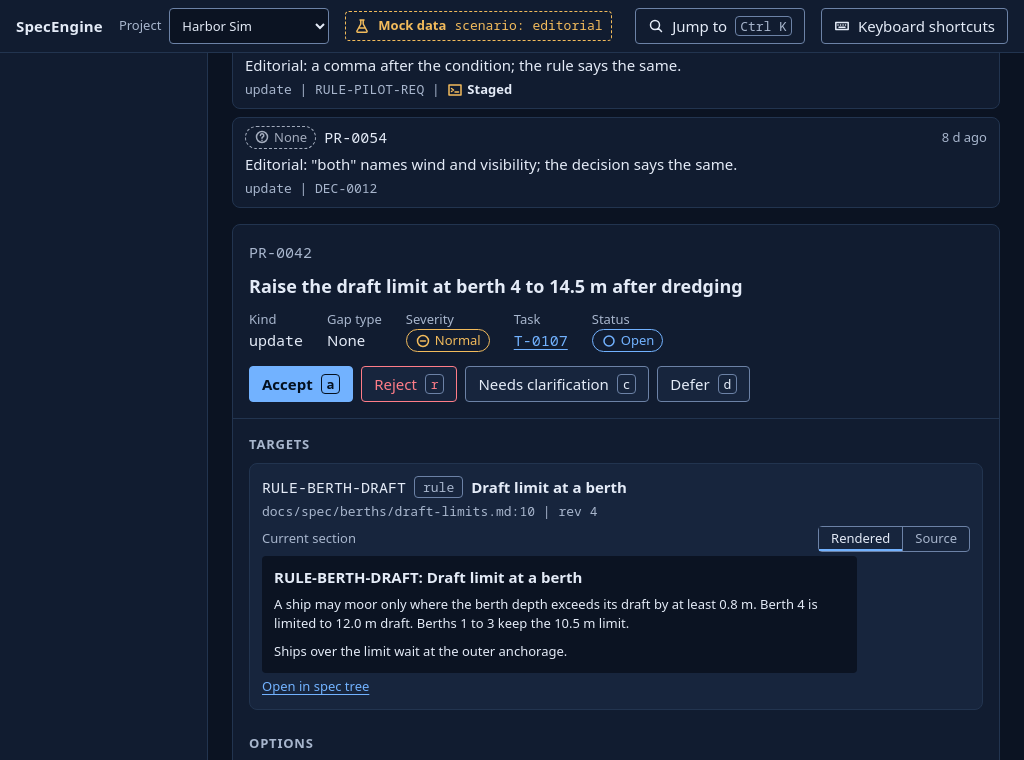
Test case: the editorial approve's contract (UI-2 of rev-discipline) › over the mock: Accept with Editorial stages editorial true; stored so; the card shows its Editorial row, the command bare
The image size is (1024, 760).
(page scrolled)
Expected: the text with class "card-id" reads "PR-0042", x1=249 y1=242 x2=312 y2=262
Click the button "Accept a".
click(301, 384)  # box x1=249 y1=366 x2=353 y2=402
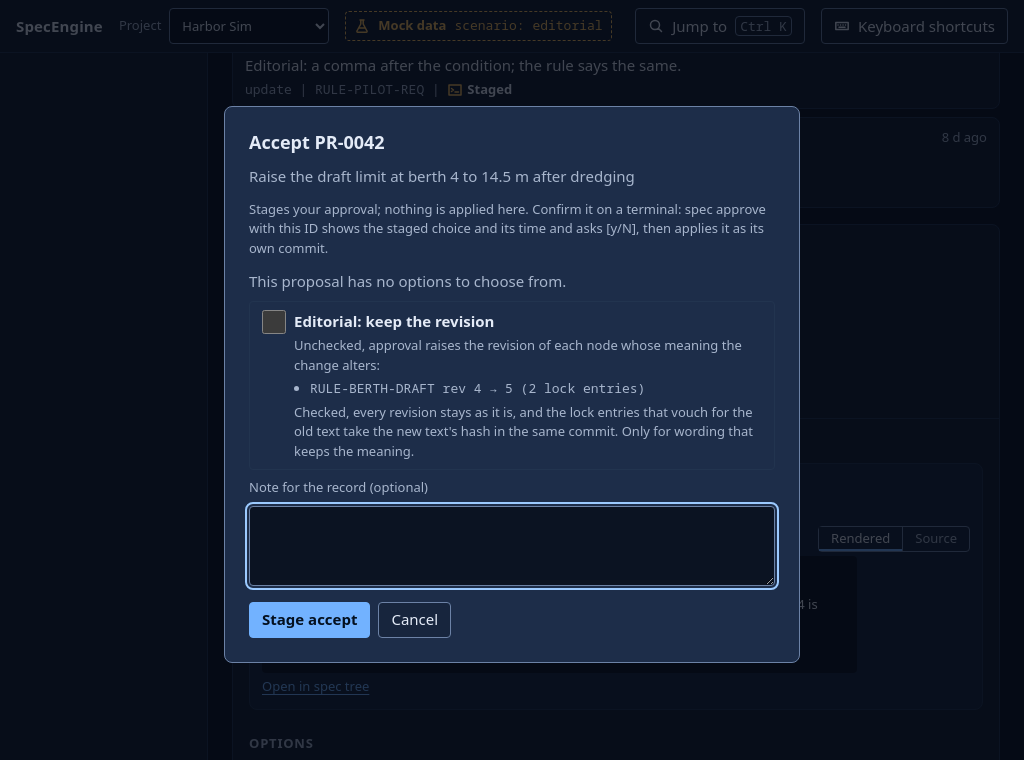
Click the checkbox labelled "Editorial: keep the revision".
click(274, 322)  # box x1=262 y1=310 x2=286 y2=334
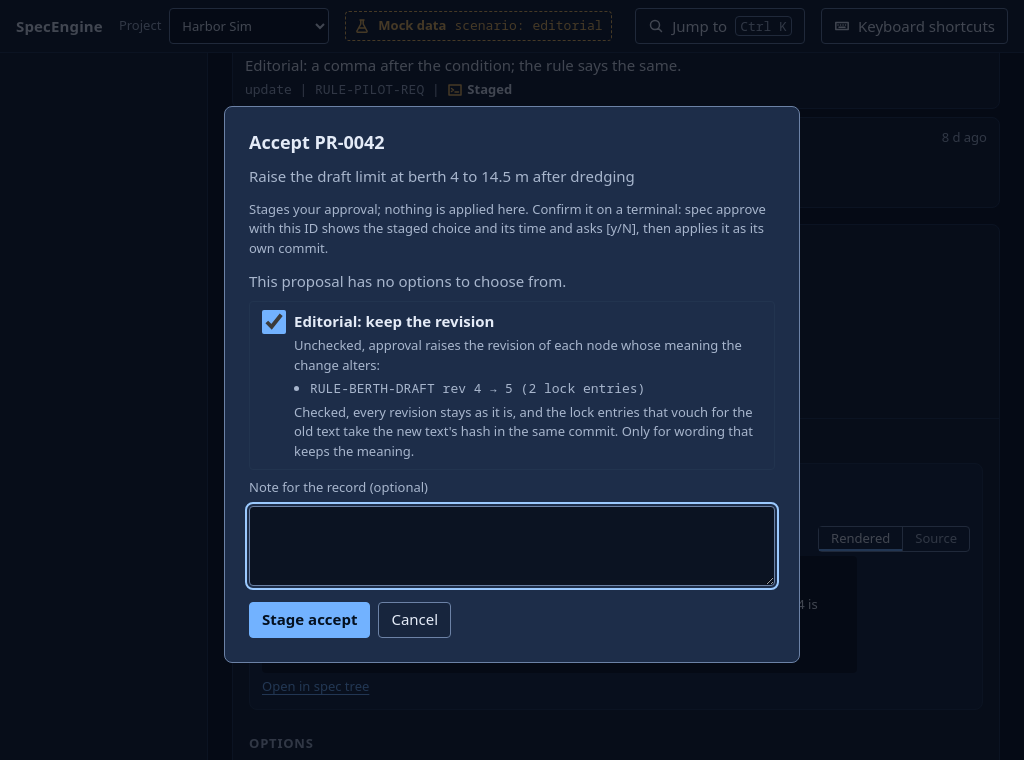
Type "typo" into the text box labelled "Note for the record (optional)".
click(512, 546); type("typo")  # box x1=249 y1=506 x2=775 y2=586
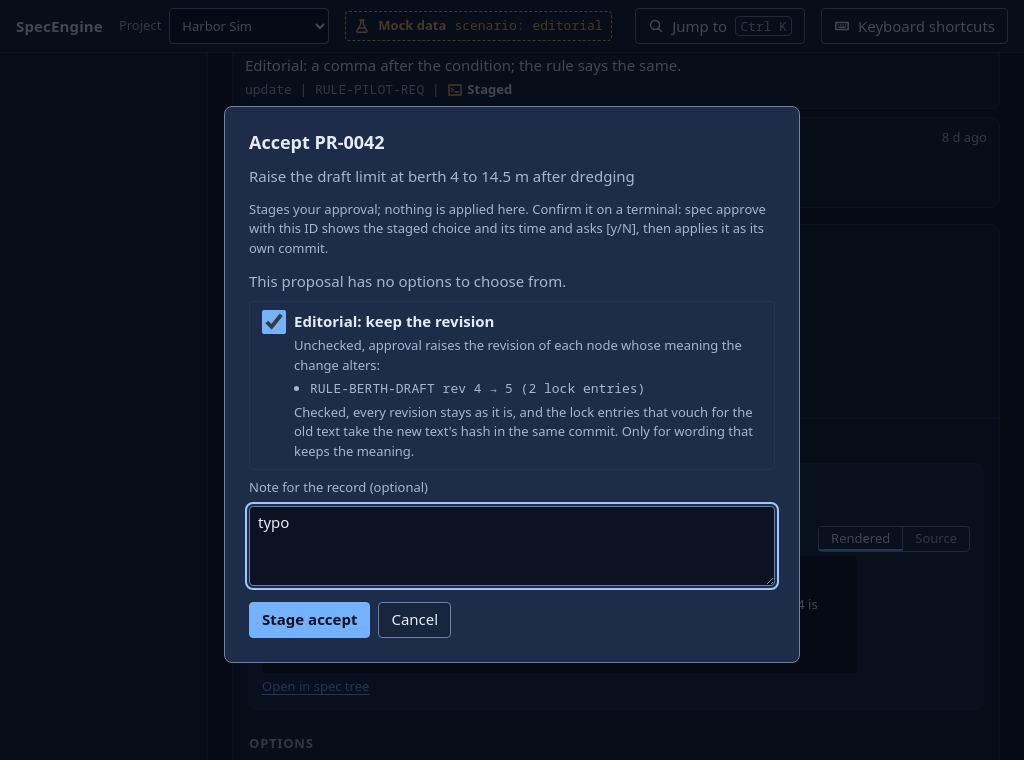
Click the button "Stage accept".
click(310, 620)  # box x1=249 y1=602 x2=370 y2=638
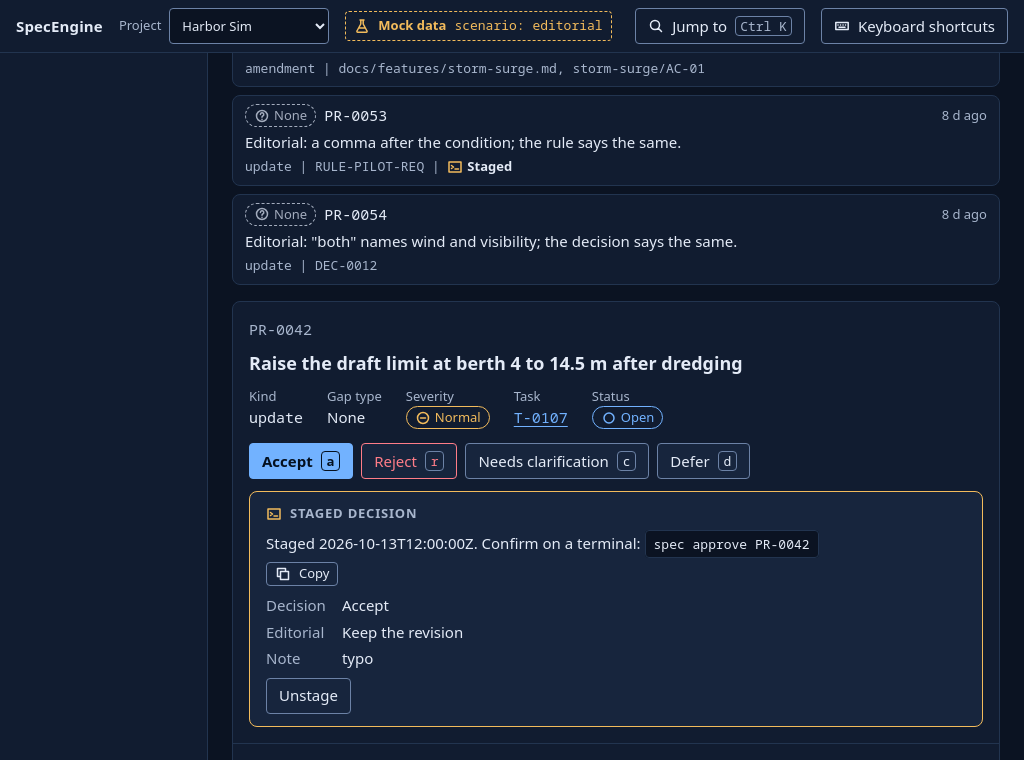
Expected: the dialog is gone
